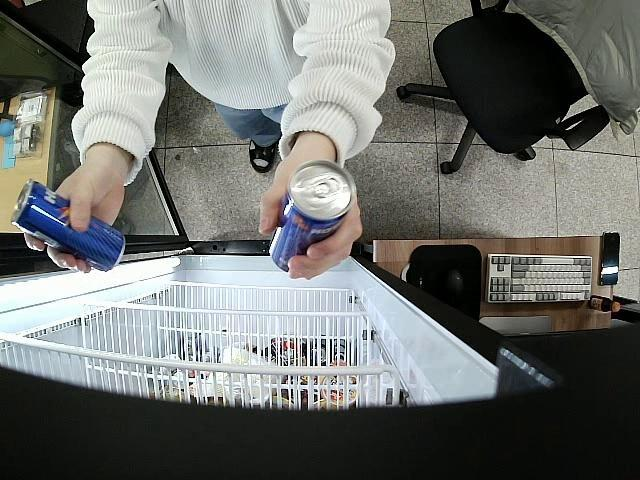16_hot6: (13, 180, 126, 273), (270, 161, 352, 272)
